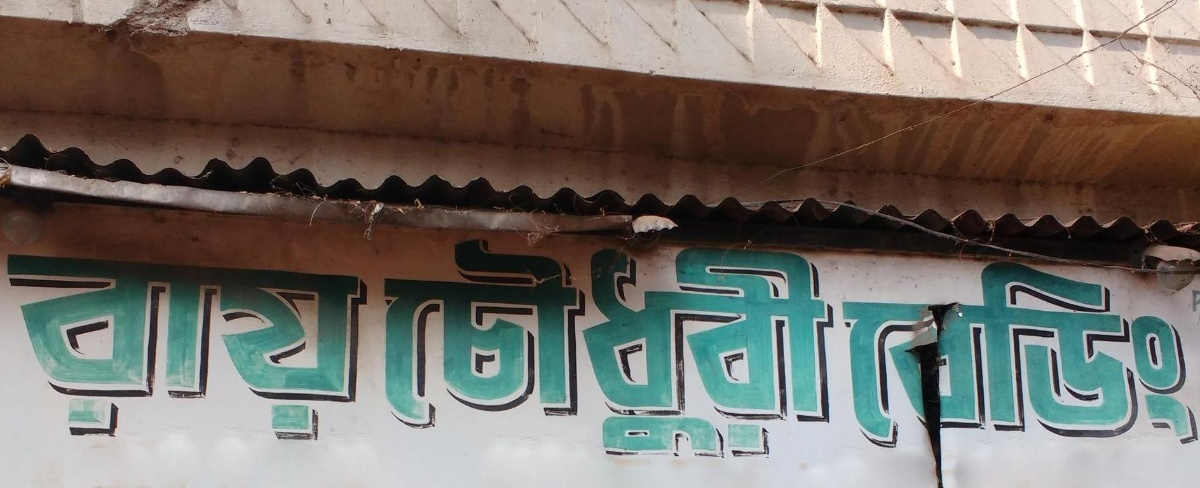text: (17, 224, 32, 462), (33, 224, 48, 462), (49, 224, 64, 462), (65, 224, 80, 462), (81, 224, 96, 462), (97, 224, 112, 462), (113, 224, 128, 462), (129, 224, 144, 462), (145, 224, 160, 462), (161, 224, 176, 462), (177, 224, 192, 462), (193, 224, 208, 462), (209, 224, 224, 462), (225, 224, 240, 462), (241, 224, 256, 462), (257, 224, 272, 462), (273, 224, 288, 462), (289, 224, 304, 462), (305, 224, 320, 462), (321, 224, 336, 462), (337, 224, 352, 462), (353, 224, 368, 462), (385, 229, 400, 464), (401, 229, 416, 464), (417, 229, 432, 464), (433, 229, 448, 464), (449, 229, 464, 464), (465, 229, 480, 464), (481, 229, 496, 464), (497, 229, 512, 464), (513, 229, 528, 464), (529, 229, 544, 464), (545, 229, 560, 464), (561, 229, 576, 464), (577, 229, 592, 464), (593, 229, 608, 464), (609, 229, 624, 464), (625, 229, 640, 464), (641, 229, 656, 464), (657, 229, 672, 464), (673, 229, 688, 464), (689, 229, 704, 464), (705, 229, 720, 464), (721, 229, 736, 464), (737, 229, 752, 464), (753, 229, 768, 464), (769, 229, 784, 464), (785, 229, 800, 464), (801, 229, 816, 464), (817, 229, 832, 464), (3, 224, 16, 462), (369, 224, 382, 462), (833, 246, 848, 450), (849, 246, 864, 450), (865, 246, 880, 450), (881, 246, 896, 450), (897, 246, 912, 450), (913, 246, 928, 450), (929, 246, 944, 450), (945, 246, 960, 450), (961, 246, 976, 450), (977, 246, 992, 450), (993, 246, 1008, 450), (1009, 246, 1024, 450), (1025, 246, 1040, 450), (1041, 246, 1056, 450), (1057, 246, 1072, 450), (1073, 246, 1088, 450), (1089, 246, 1104, 450), (1105, 246, 1120, 450), (1121, 246, 1136, 450), (1137, 246, 1152, 450), (1153, 246, 1168, 450), (1169, 246, 1184, 450), (1185, 246, 1200, 450), (833, 229, 843, 464), (377, 229, 384, 464), (827, 246, 832, 450)
